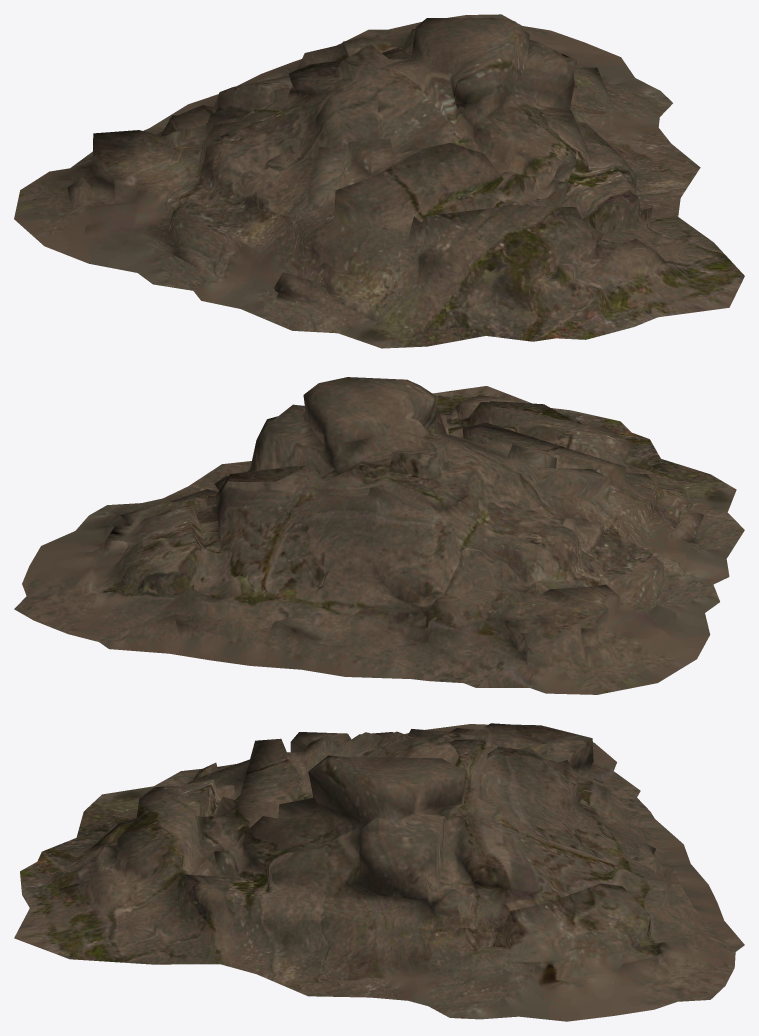
The model's file is Rubbles_04.fbx.
3 renders of one model, top to bottom at view 1: azimuth 30°, elevation 25°; view 2: azimuth 150°, elevation 25°; view 3: azimuth 270°, elevation 25°, orthographic. The views are drawn at different scales.
Parts seen in each view (by area): view 1: Rubble_Big_LOD2:Rubble_Big_LOD2_0; view 2: Rubble_Big_LOD2:Rubble_Big_LOD2_0; view 3: Rubble_Big_LOD2:Rubble_Big_LOD2_0.
Part boxes in pixels (box(x1,y1,x2,y2)): Rubble_Big_LOD2:Rubble_Big_LOD2_0: box(14, 14, 744, 348); Rubble_Big_LOD2:Rubble_Big_LOD2_0: box(14, 377, 744, 694); Rubble_Big_LOD2:Rubble_Big_LOD2_0: box(14, 723, 744, 1021).
Size of the model in its own units: 44.45 by 10.15 by 46.13.
Materials: 1 (1 with a texture image).
